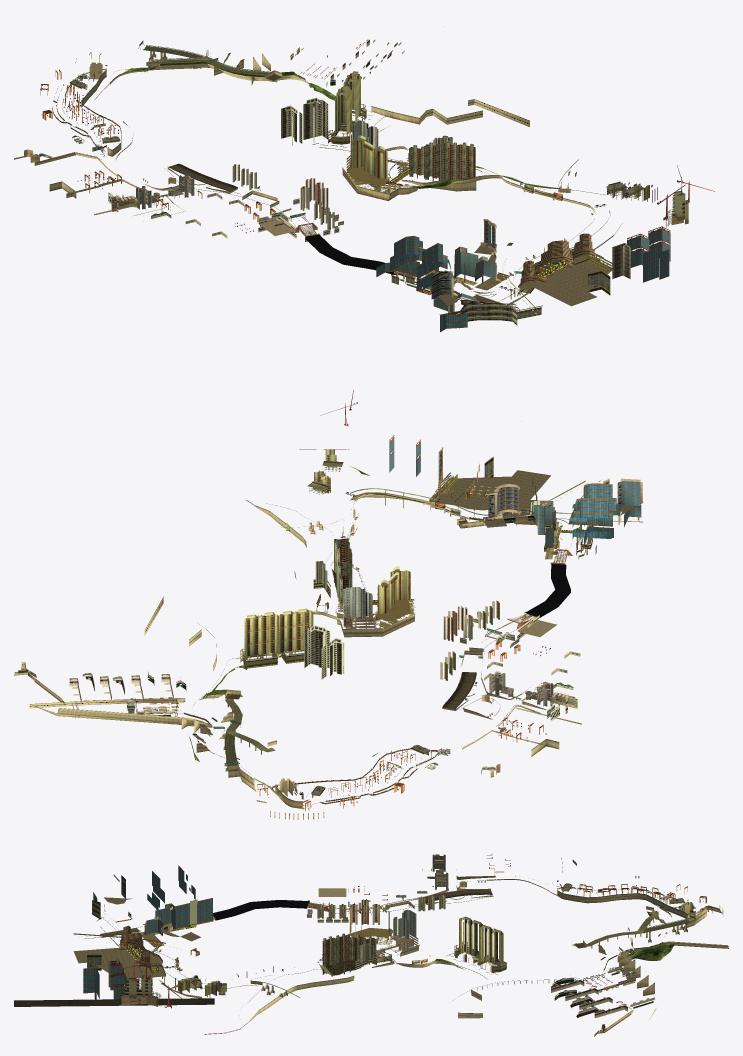
File: track-AS_C2_V2.glb
3 views of the same model, one above another, from view 1: azimuth 30°, elevation 25°; view 2: azimuth 150°, elevation 25°; view 3: azimuth 270°, elevation 25° (orthographic). The views are drawn at different scales.
Visible parts, largest first — view 1: AS_C2_V2; view 2: AS_C2_V2; view 3: AS_C2_V2.
Part boxes in pixels (box(x1,y1,x2,y2)): AS_C2_V2: box(14, 39, 714, 332); AS_C2_V2: box(14, 389, 643, 819); AS_C2_V2: box(14, 854, 728, 1036).
Size of the model in its own units: 1784 by 304 by 2856.
137 materials, 137 textured.
